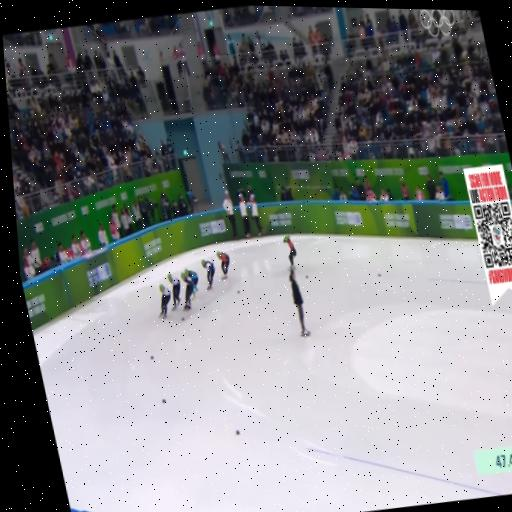Skater: (167, 273, 181, 309), (181, 273, 193, 310), (284, 236, 296, 269), (216, 251, 230, 279), (202, 260, 215, 290), (185, 269, 198, 298), (160, 285, 171, 318)
